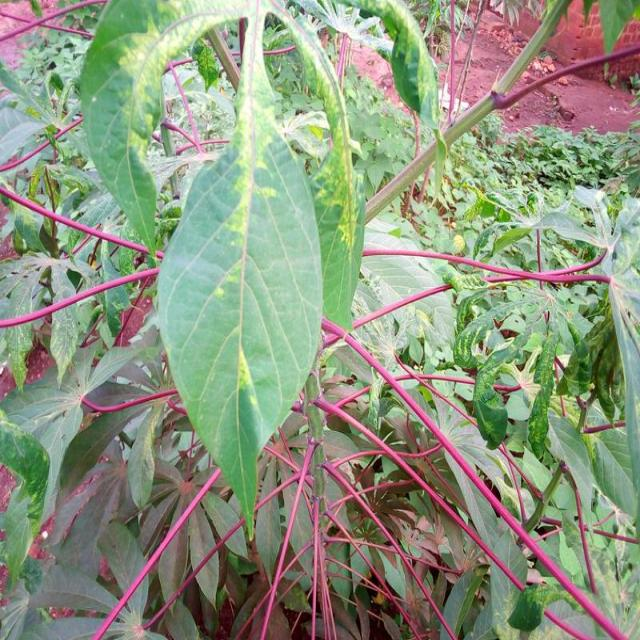cassava leaf: (154, 15, 325, 539)
